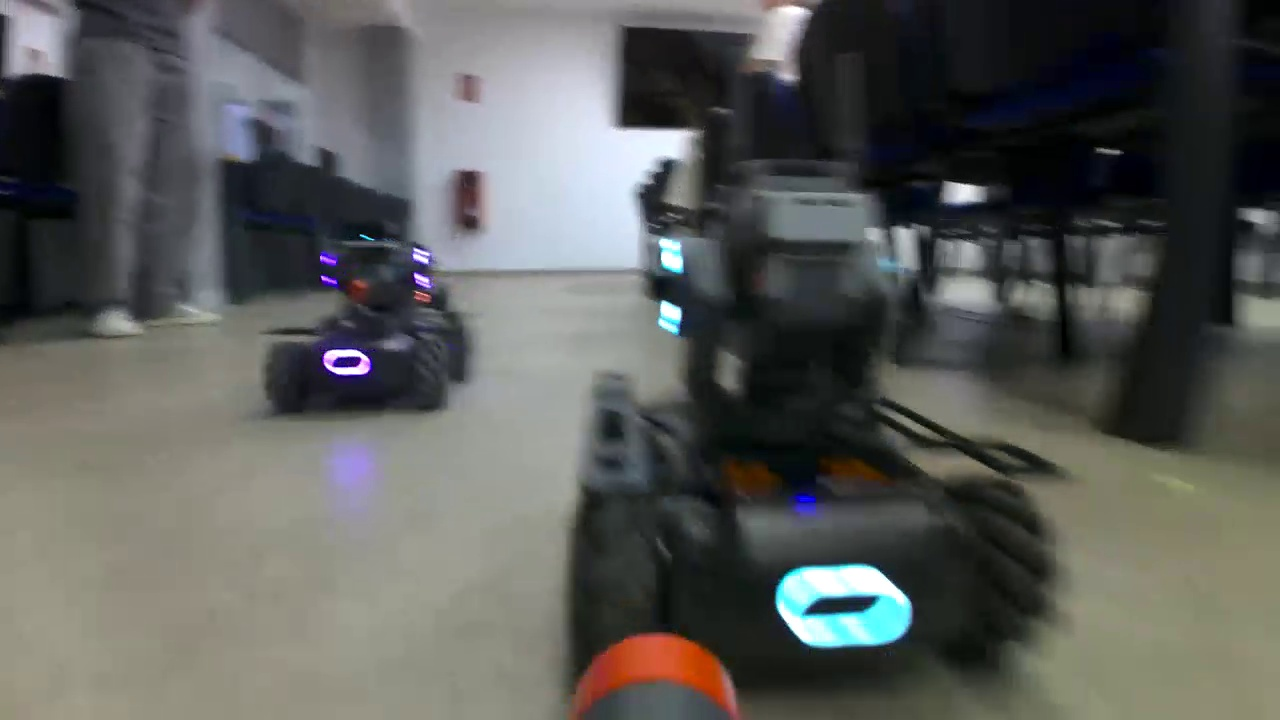robot: (568, 155, 1060, 720), (262, 213, 475, 415)
